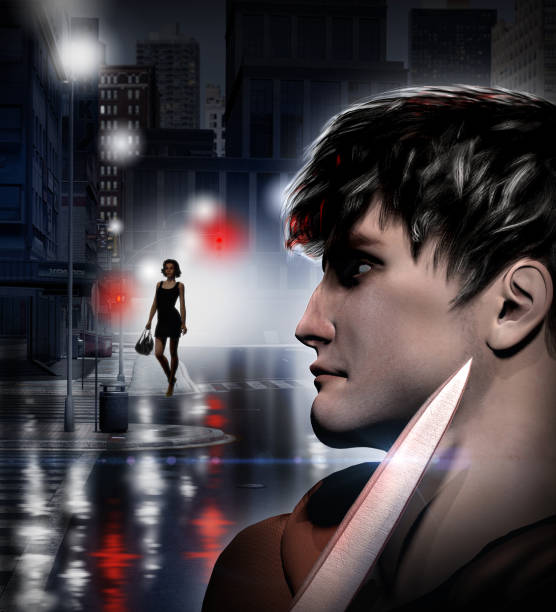knife: (288, 354, 476, 612)
